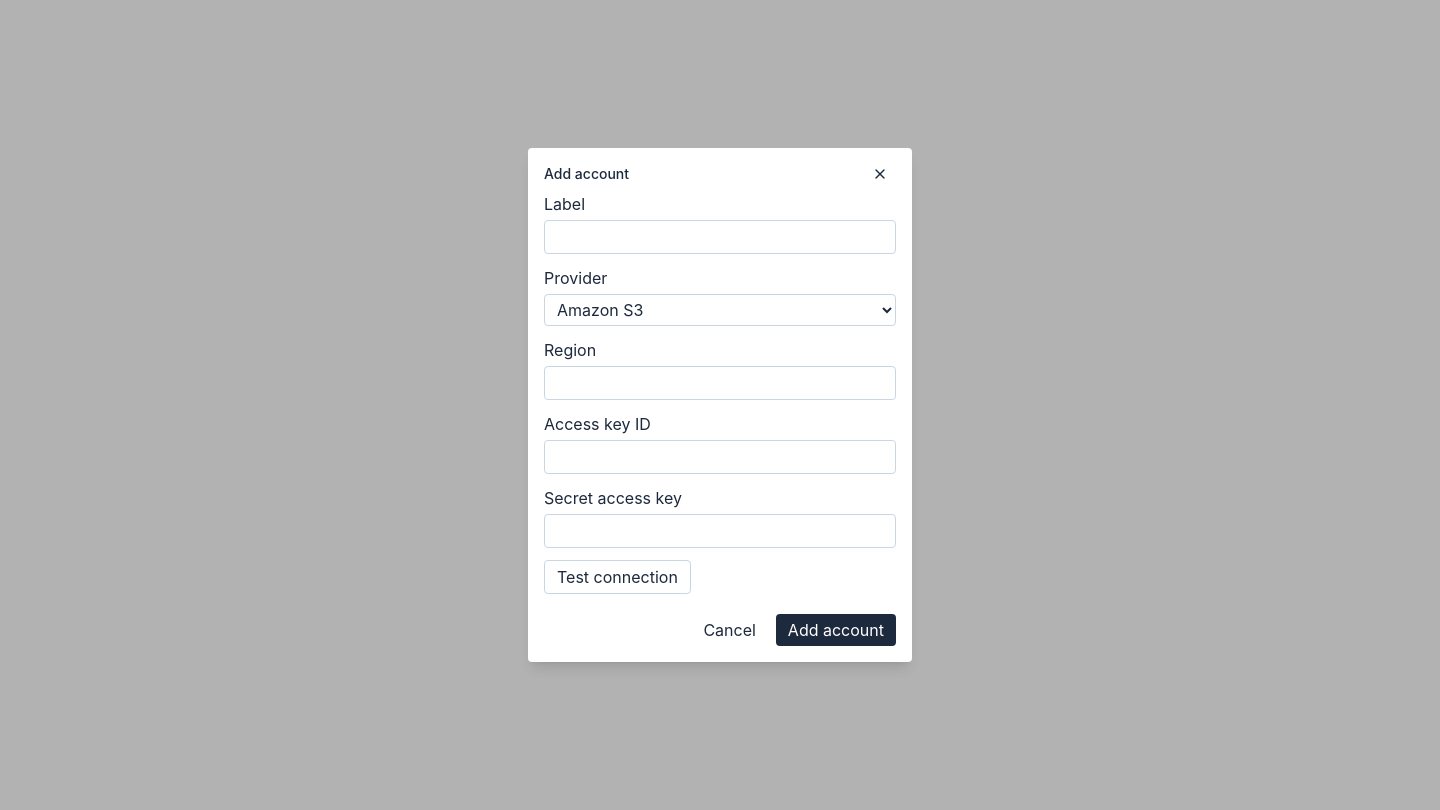
Test case: QuickAddAccountDialog › shows an error and stays open when creation fails
Type "New acc" into the field labelled "Label".
click(720, 237); type("New acc")  # box [544,220,896,254]
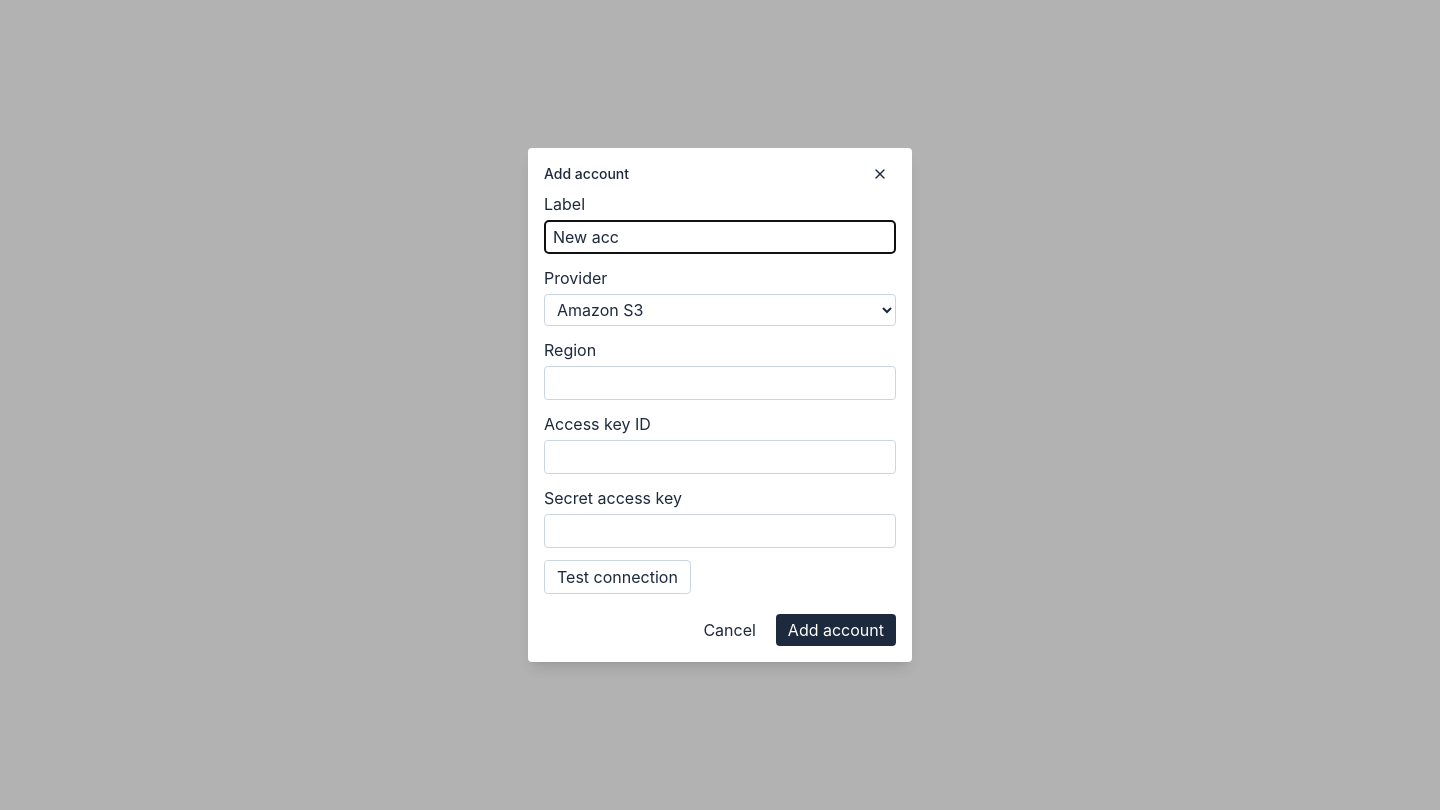
Type "eu-central-1" into the field labelled "Region".
click(720, 383); type("eu-central-1")  # box [544,366,896,400]
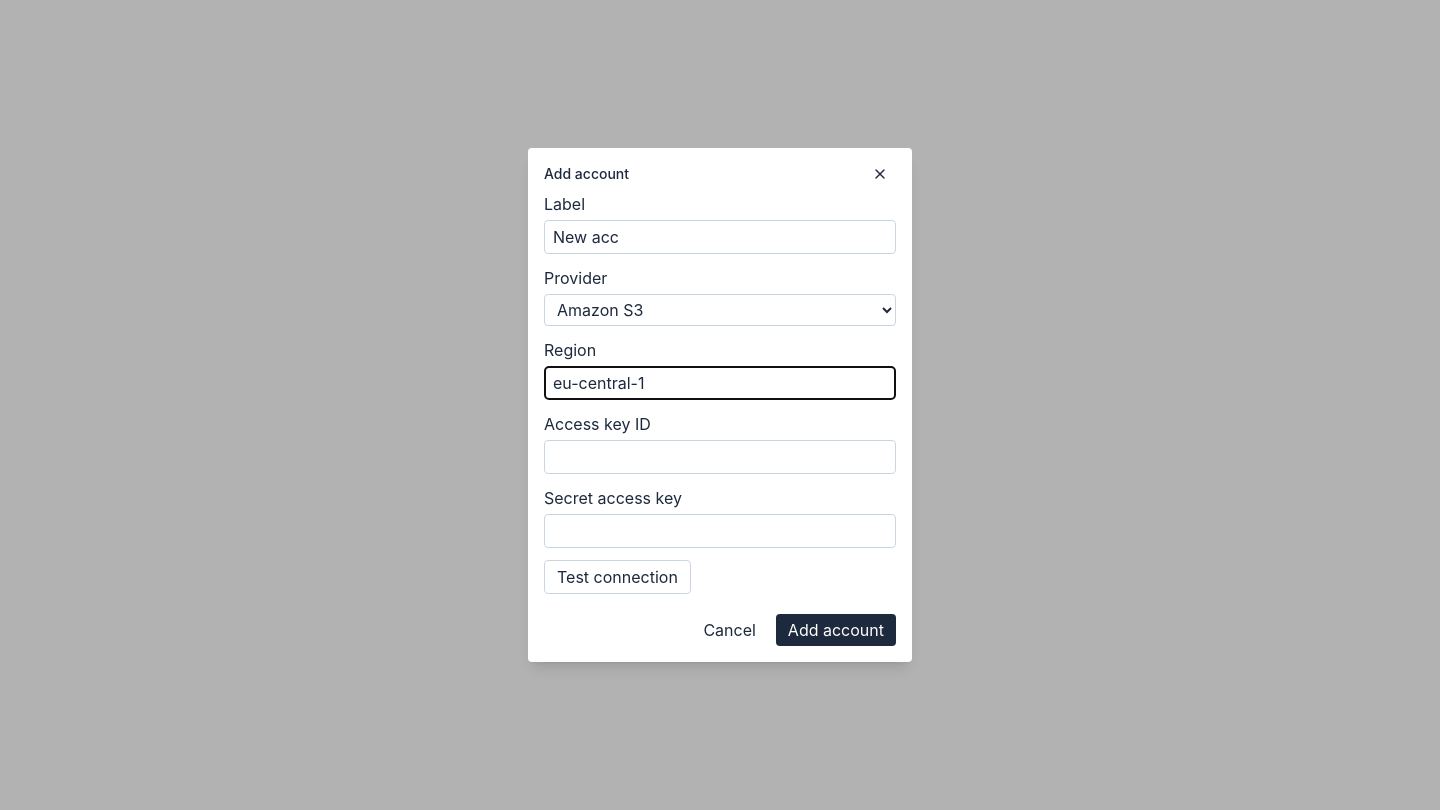
Type "AK" into the field labelled "Access key ID".
click(720, 457); type("AK")  # box [544,440,896,474]
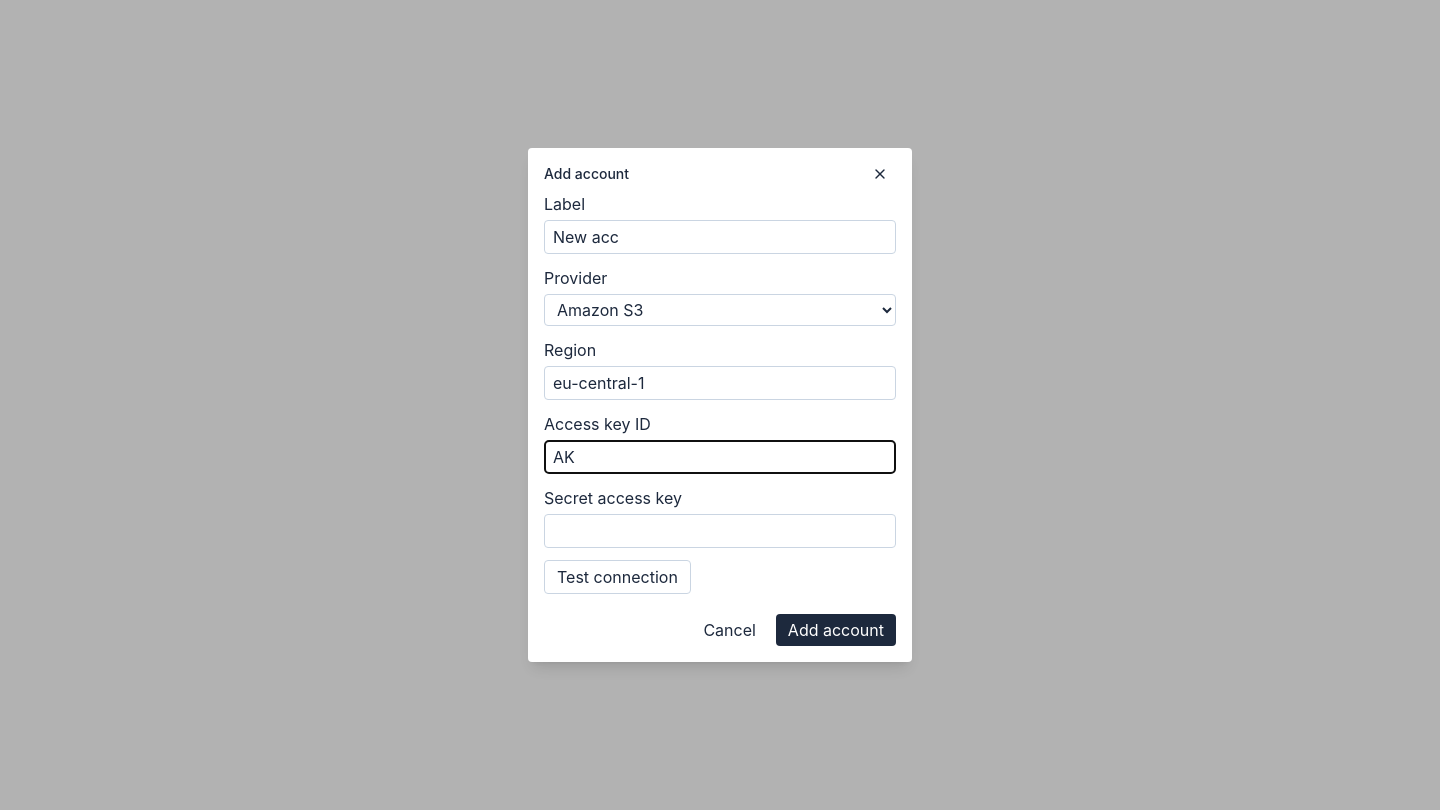
Type "sek" into the password field labelled "Secret access key".
click(720, 531); type("sek")  # box [544,514,896,548]
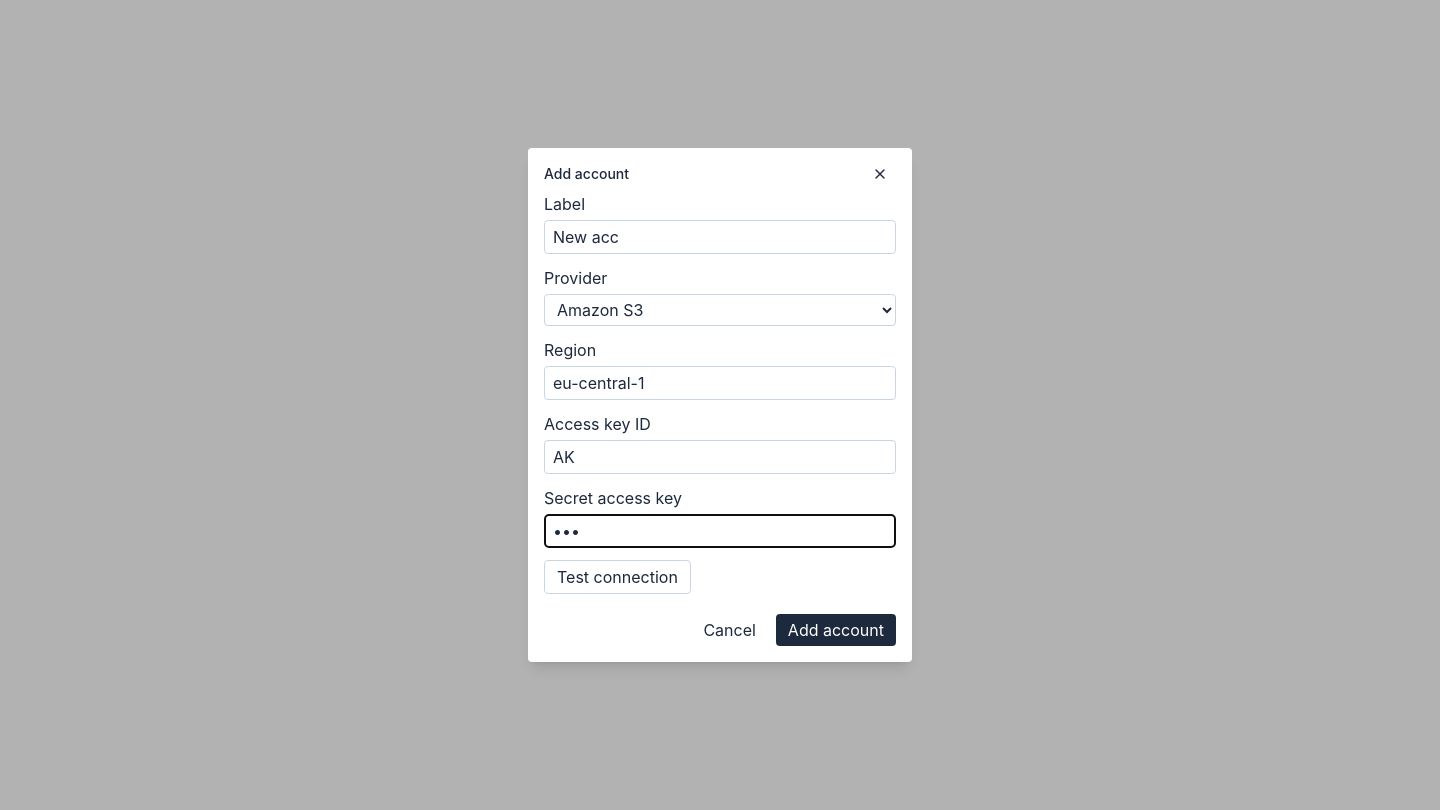
Click the button "Add account".
click(836, 630)  # box [776,614,896,646]
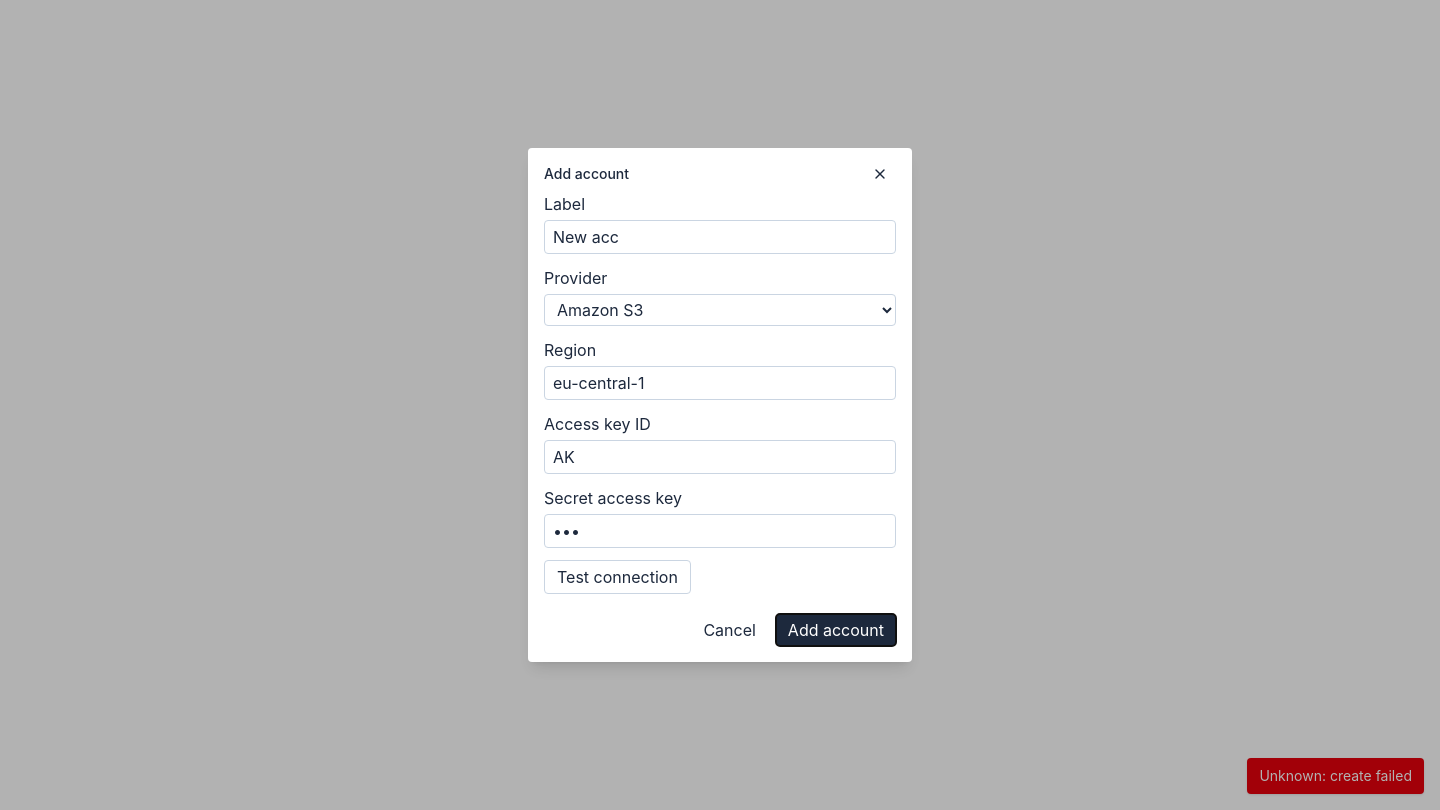
Check: the text "Unknown: create failed" is shown, box [1247,758,1424,794]
